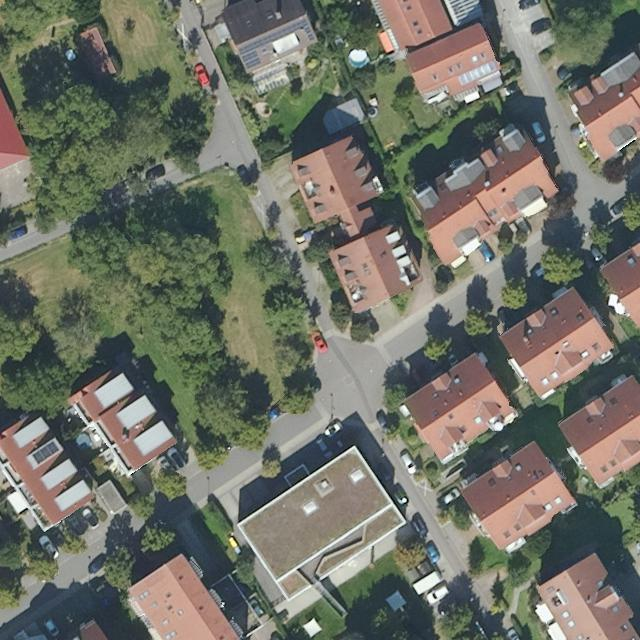PV: (237, 15, 317, 72), (29, 440, 61, 466)
